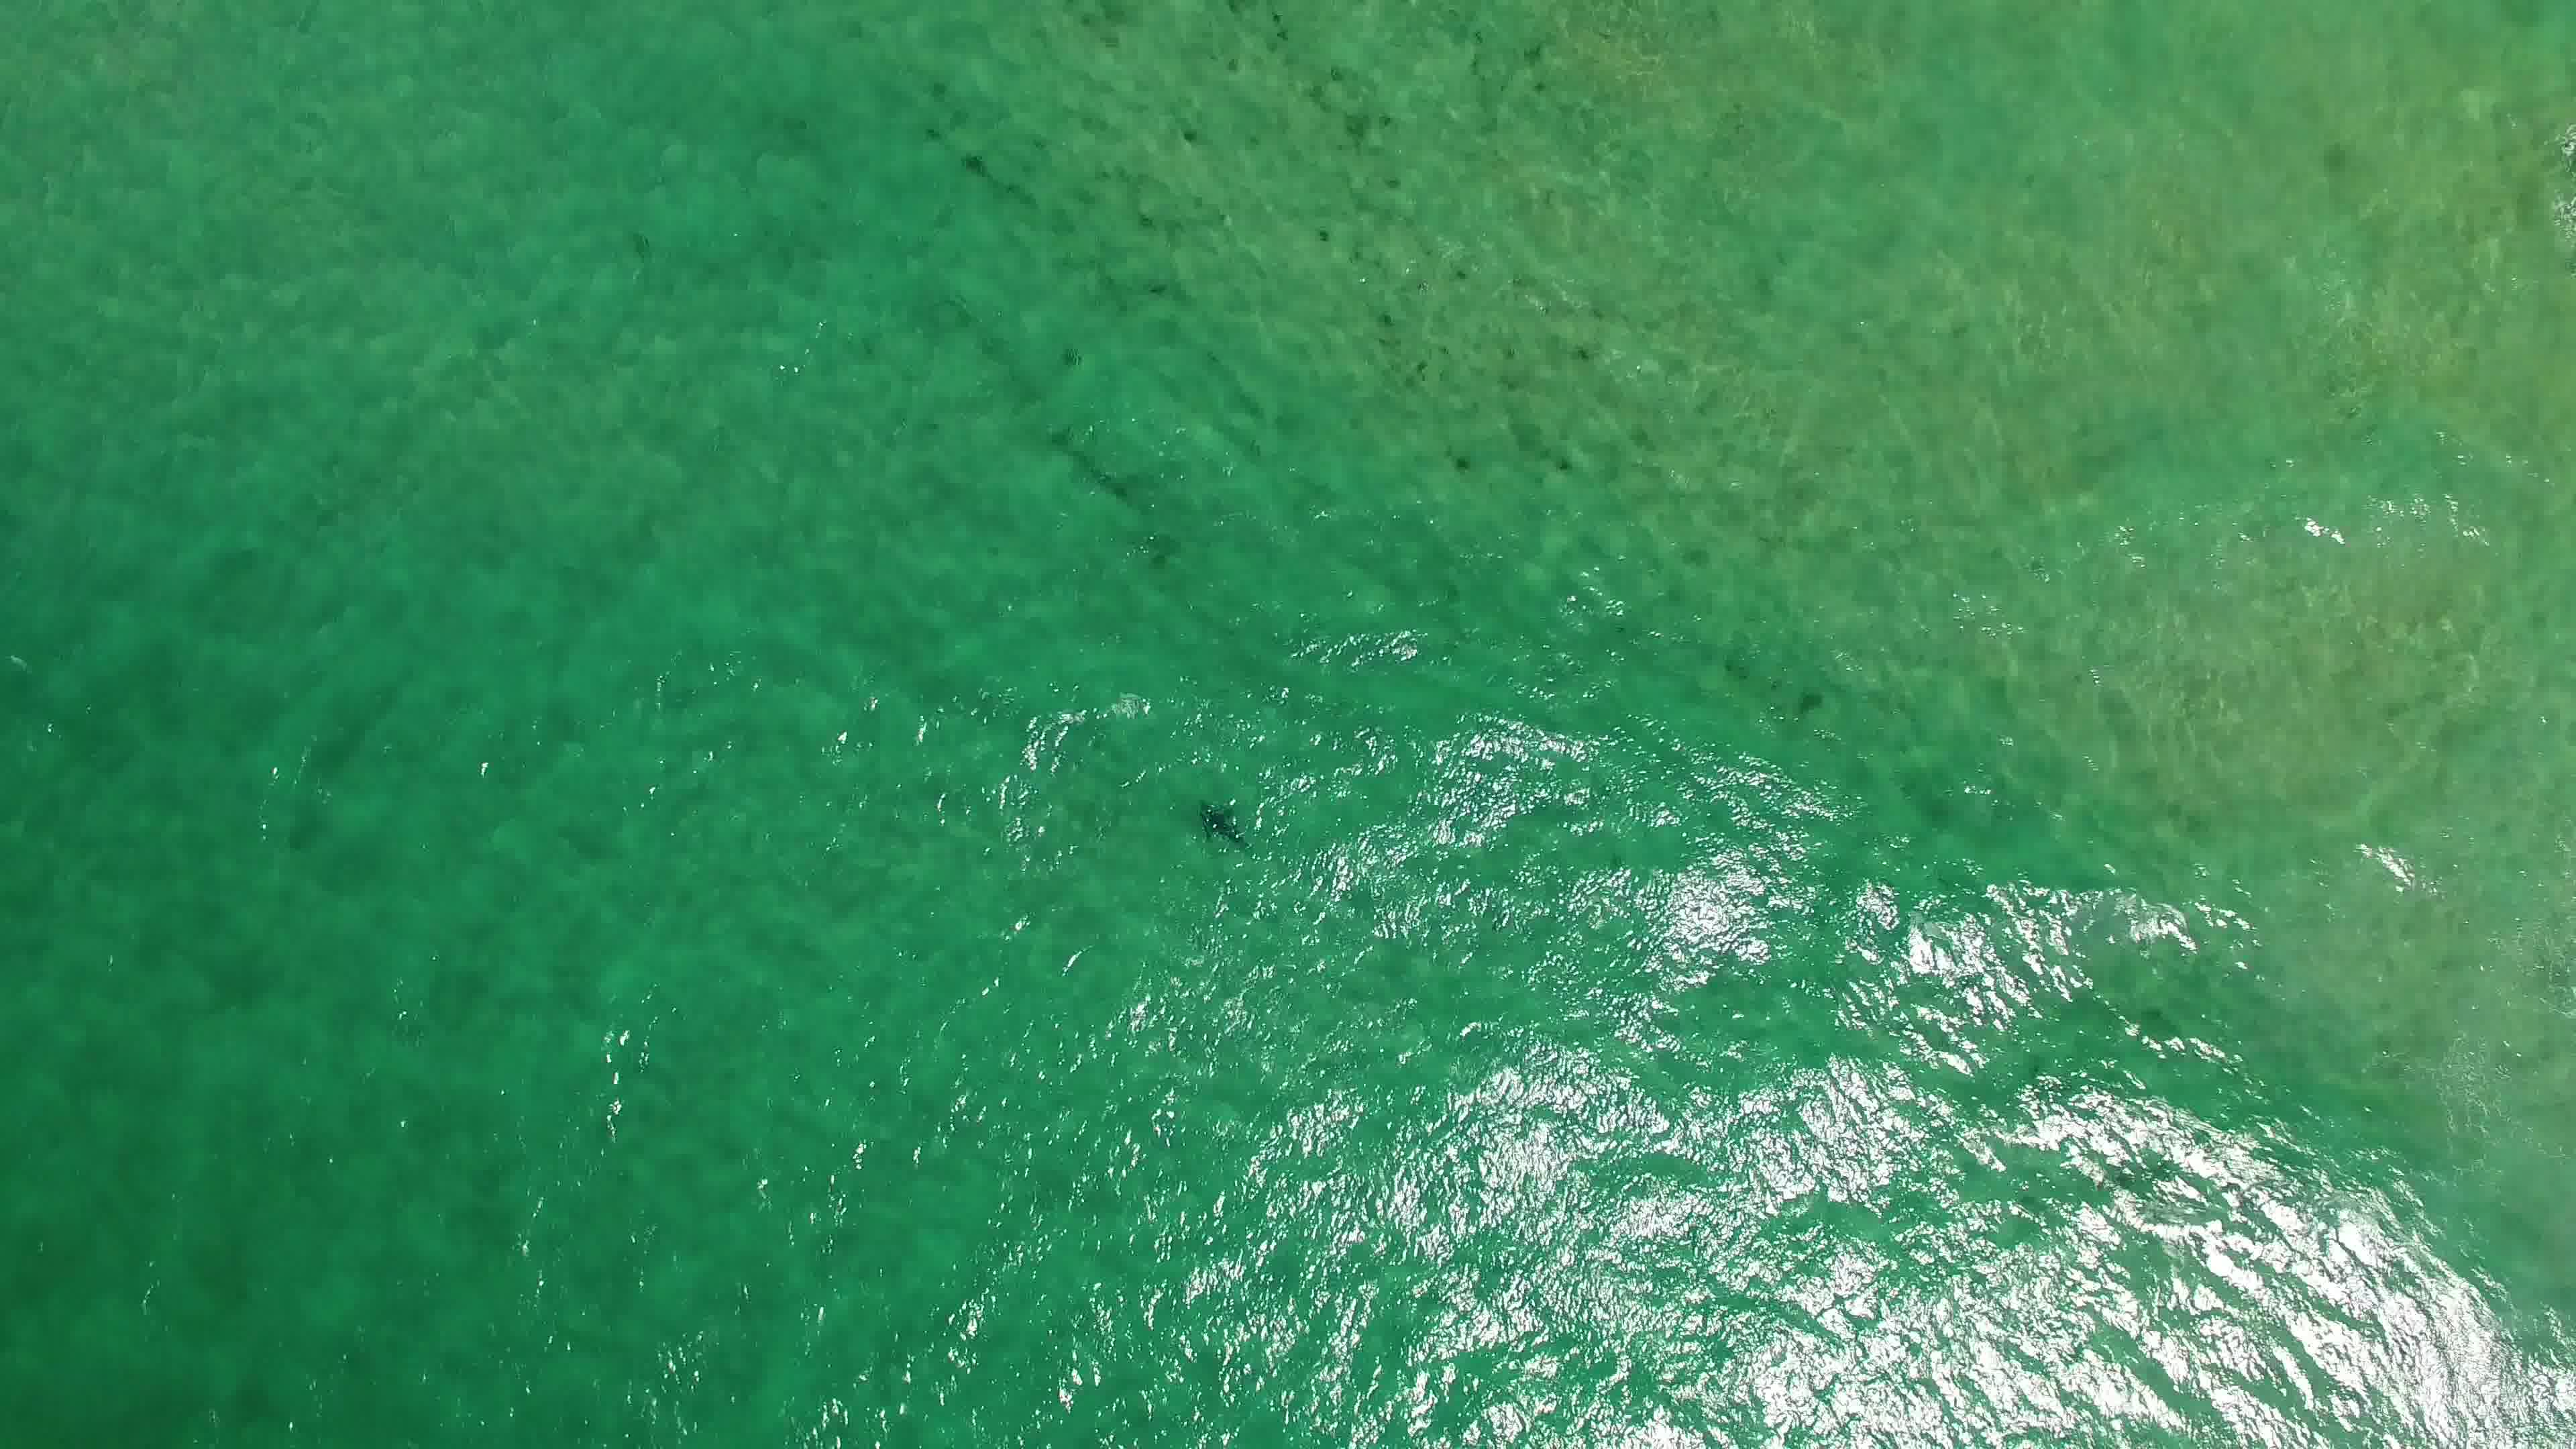shark: (1191, 793, 1254, 855)
